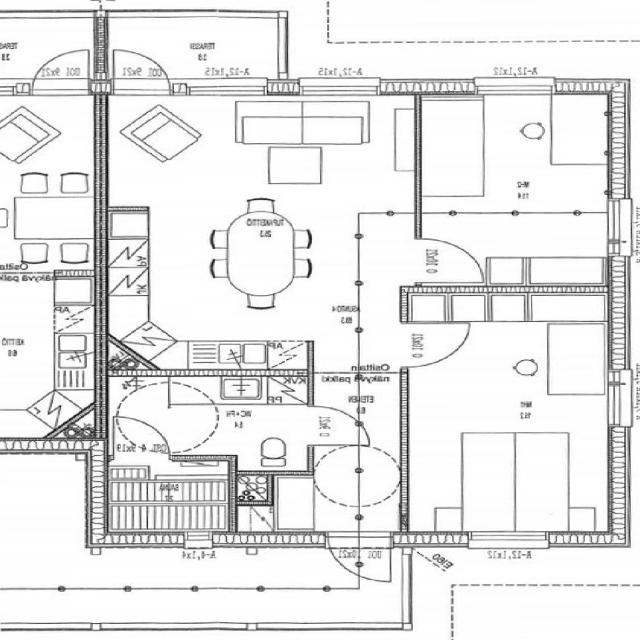door: (329, 531, 391, 591), (114, 39, 170, 94), (400, 324, 470, 367), (415, 239, 483, 283), (114, 415, 170, 461), (308, 407, 369, 445)
